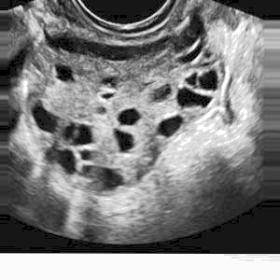PCOS: (28, 102, 64, 130), (114, 127, 134, 156), (184, 85, 205, 111), (201, 73, 221, 96), (78, 125, 94, 150), (54, 65, 77, 82), (120, 108, 140, 127), (156, 120, 183, 133), (59, 148, 74, 171), (151, 89, 171, 103), (48, 140, 60, 162), (106, 170, 122, 186), (77, 149, 94, 162), (97, 102, 110, 115), (103, 74, 119, 83), (190, 69, 200, 83), (87, 163, 96, 178), (102, 91, 115, 100), (68, 123, 76, 137), (203, 49, 212, 59)
